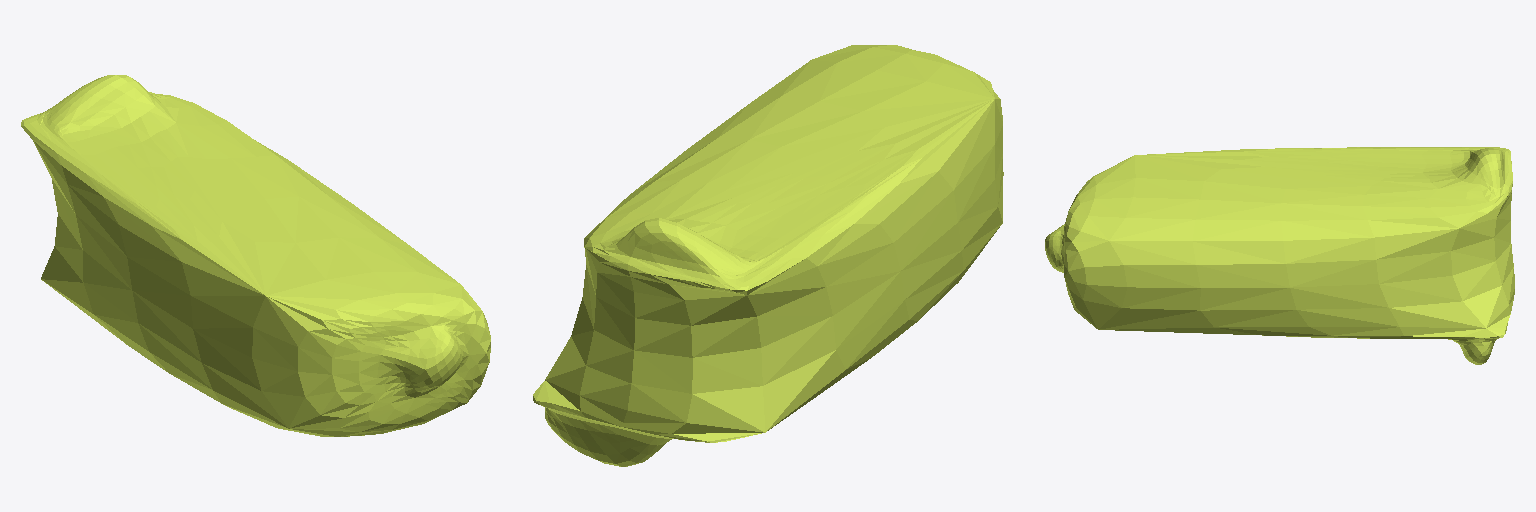
The robot description file, URDF, robot "blob918":

<robot name="blob918">
  <link name="random_obj_918">
    <contact>
      <lateral_friction value="1.0"/>
      <rolling_friction value="0.0"/>
      <inertia_scaling value="3.0"/>
      <contact_cfm value="0.0"/>
      <contact_erp value="1.0"/>
    </contact>
    <inertial>
      <origin rpy="0 0 0" xyz="0 0 0"/>
      <mass value="0.0682"/>
      <inertia ixx="1" ixy="0" ixz="0" iyy="1" iyz="0" izz="0"/>
    </inertial>
    <visual>
      <origin rpy="0 0 0" xyz="0 0 0"/>
      <geometry>
        <mesh filename="918.obj" scale="0.0093 0.0093 0.0093"/>
      </geometry>
      <material name="blockmat">
        <color rgba="0.85 0.93 0.41 1"/>
      </material>
    </visual>
    <collision>
      <origin rpy="0 0 0" xyz="0 0 0"/>
      <geometry>
        <mesh filename="918_coll.obj" scale="0.0093 0.0093 0.0093"/>
      </geometry>
    </collision>
  </link>
</robot>

--- What the picture shows (computed from the rendered views, not written in the file) ---
The picture shows the robot from 3 angles, left to right: view 1: azimuth 30°, elevation 25°; view 2: azimuth 150°, elevation 25°; view 3: azimuth 270°, elevation 25°; orthographic projection.
Model blob918 with 1 links and 0 joints (none), rooted at random_obj_918, posed every joint at zero.
Links seen in each view (by area): view 1: random_obj_918; view 2: random_obj_918; view 3: random_obj_918.
Boxes of the visible links, x1,y1,x2,y2 form: random_obj_918: [21, 75, 490, 436]; random_obj_918: [533, 45, 1003, 466]; random_obj_918: [1045, 147, 1514, 364].
Size in the robot's own frame: 0.0515 by 0.118 by 0.0516 metres.
1 mesh visuals loaded from 1 distinct referenced files (1 OBJ).
